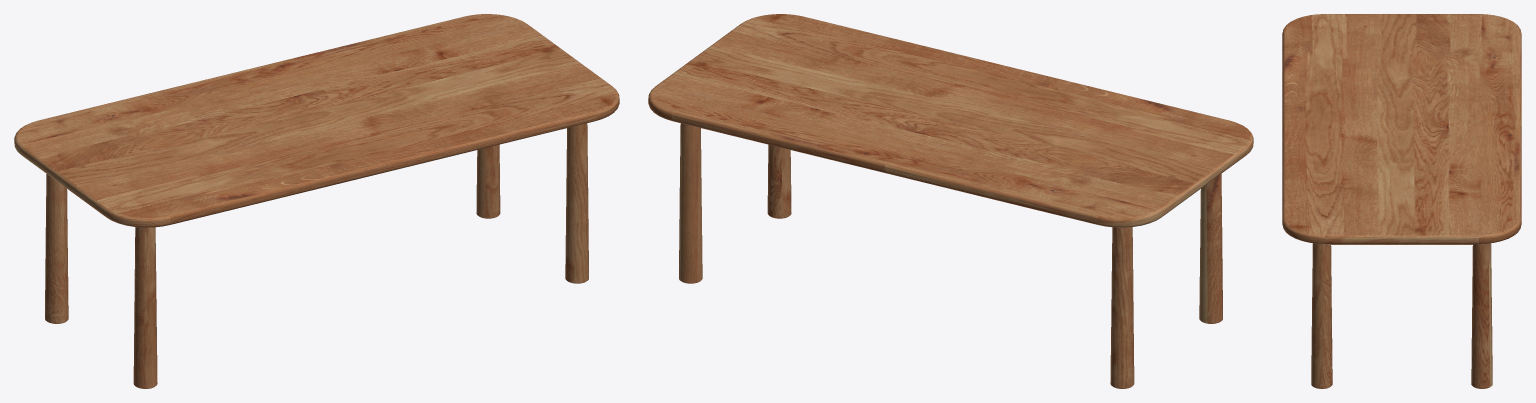
The picture shows the model from 3 angles, left to right: view 1: azimuth 30°, elevation 25°; view 2: azimuth 150°, elevation 25°; view 3: azimuth 270°, elevation 25°; orthographic projection. The views are drawn at different scales.
Visible parts, largest first — view 1: Table top, Leg; view 2: Table top, Leg; view 3: Table top, Leg.
Part boxes in pixels (bbox=[...]): Table top: bbox=[14, 14, 619, 227]; Leg: bbox=[45, 123, 588, 388]; Table top: bbox=[648, 14, 1253, 227]; Leg: bbox=[679, 123, 1222, 388]; Table top: bbox=[1282, 14, 1521, 243]; Leg: bbox=[1311, 243, 1492, 388].
Bounding box in the file's own units: 2.21 × 0.769 × 1.
2 materials, 2 textured.
